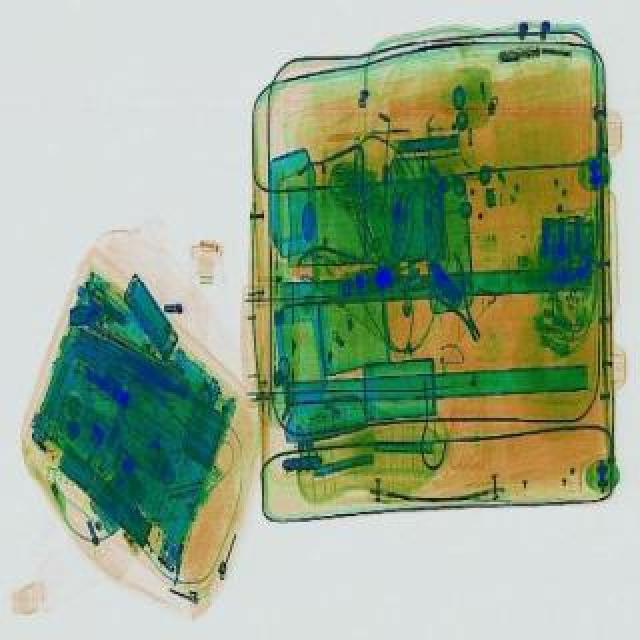wrench: (420, 248, 492, 346)
